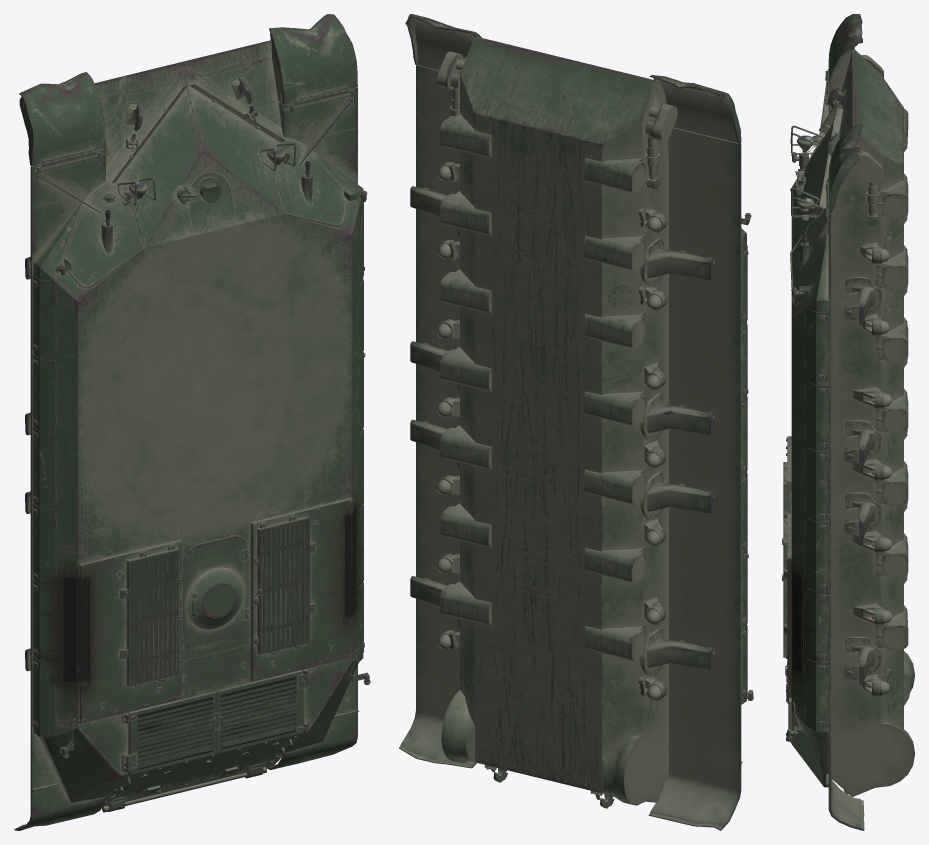
Rendered from Hull.glb.
3 renders of one model, left to right at view 1: azimuth 30°, elevation 25°; view 2: azimuth 150°, elevation 25°; view 3: azimuth 270°, elevation 25°, orthographic. The views are drawn at different scales.
Parts seen in each view (by area): view 1: set_0_group_0; view 2: set_0_group_0; view 3: set_0_group_0.
Boxes of the visible parts, x1,y1,x2,y2 form: set_0_group_0: (14, 14, 370, 830); set_0_group_0: (399, 14, 753, 830); set_0_group_0: (782, 14, 914, 830).
Size of the model in its own units: 3.47 by 7.43 by 1.31.
Materials: 1 (1 with a texture image).
